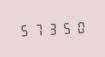five: (18, 21, 31, 38), (60, 19, 73, 35)
seven: (32, 21, 45, 37)
three: (46, 20, 59, 36)
zero: (74, 18, 87, 35)
